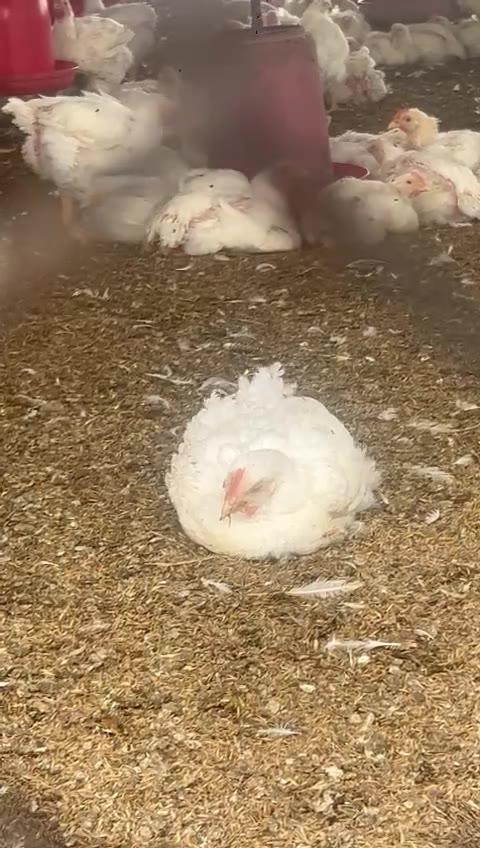AbNormal: (165, 369, 374, 557), (150, 162, 302, 255), (362, 134, 480, 219), (310, 169, 430, 244), (335, 10, 415, 59), (326, 45, 385, 111), (379, 22, 459, 67)
Normal: (0, 72, 187, 237), (385, 107, 480, 176), (50, 5, 130, 79), (299, 0, 346, 68)
